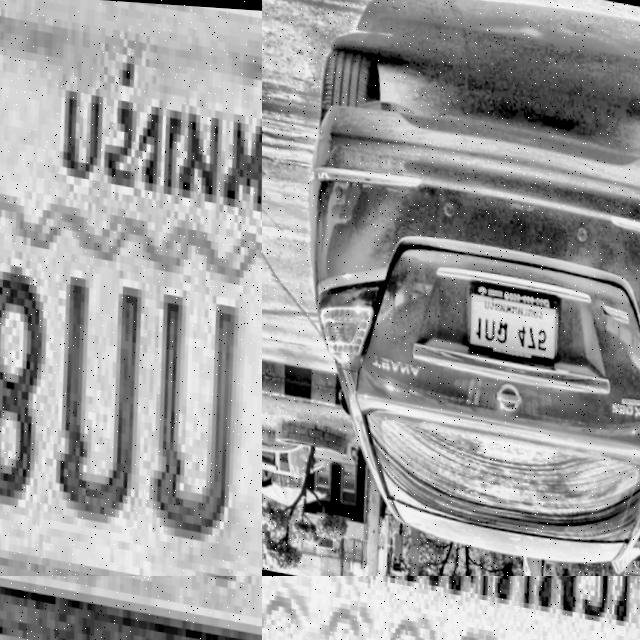license-plate: (0, 0, 262, 576), (262, 576, 640, 640), (0, 576, 262, 640), (449, 272, 569, 374)
